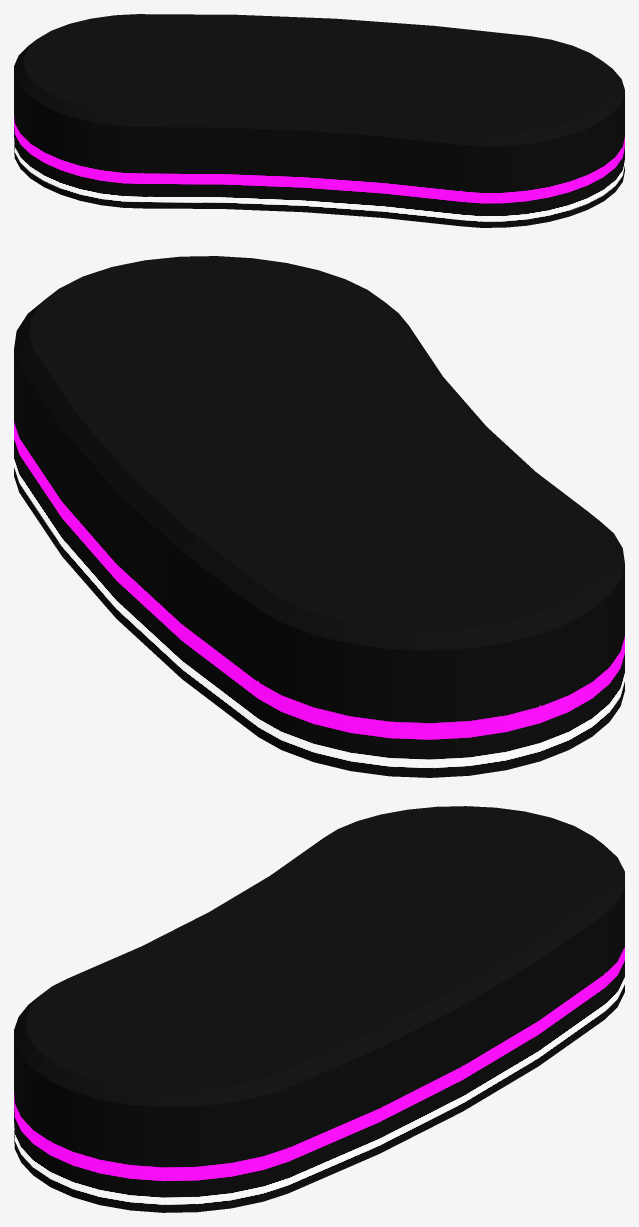
Rendered from NeonSeat.fbx.
3 renders of one model, top to bottom at view 1: azimuth 30°, elevation 25°; view 2: azimuth 150°, elevation 25°; view 3: azimuth 270°, elevation 25°, orthographic. The views are drawn at different scales.
Visible parts, largest first — view 1: Seat; view 2: Seat; view 3: Seat.
Part boxes in pixels (x1,y1,x2,y2): Seat: (14,14,624,227); Seat: (14,256,624,777); Seat: (14,806,624,1212).
Bounding box in the file's own units: 268 × 49.48 × 234.
